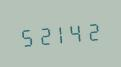five: (18, 23, 34, 49)
four: (69, 19, 85, 44)
one: (52, 20, 68, 46)
two: (86, 17, 102, 43), (35, 22, 51, 47)
